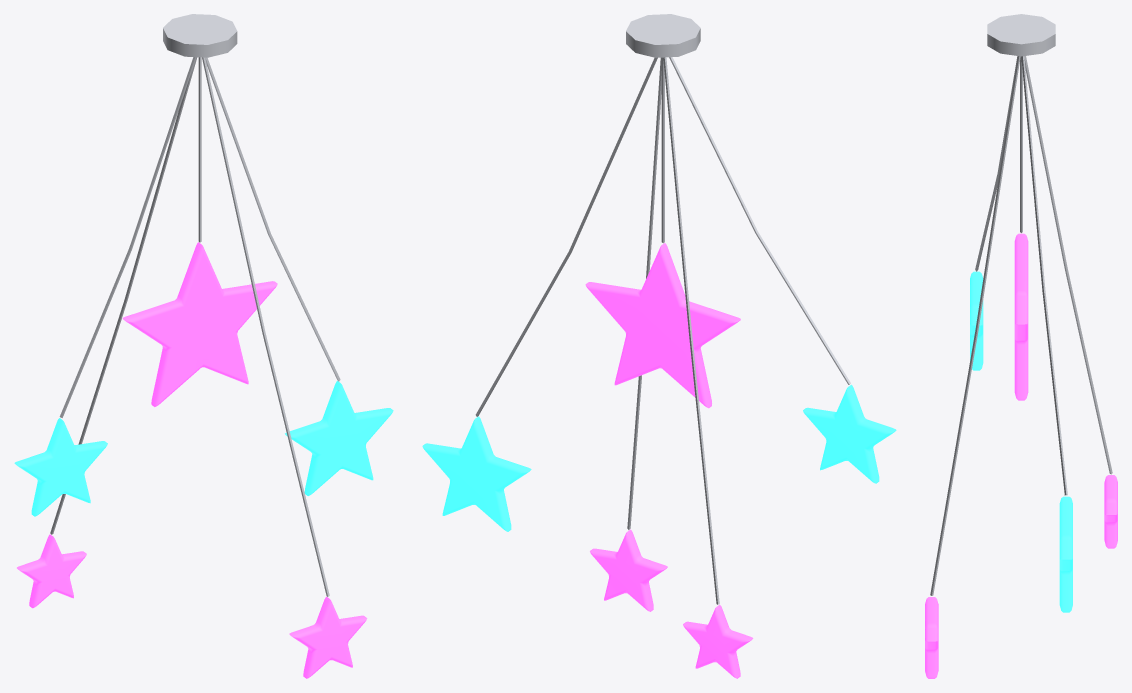
Rendered from neon_stars_cluster.glb.
3 renders of one model, left to right at view 1: azimuth 30°, elevation 25°; view 2: azimuth 150°, elevation 25°; view 3: azimuth 270°, elevation 25°, orthographic. The views are drawn at different scales.
Parts seen in each view (by area): view 1: neon_stars_cluster; view 2: neon_stars_cluster; view 3: neon_stars_cluster.
Boxes of the visible parts, x1,y1,x2,y2 form: neon_stars_cluster: (14, 14, 393, 678); neon_stars_cluster: (422, 14, 896, 678); neon_stars_cluster: (925, 14, 1117, 678).
Size of the model in its own units: 1.04 by 1.48 by 0.43.
